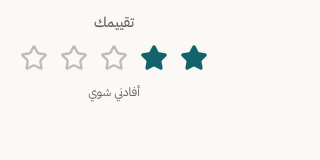
Test: hovering › previews over a rating already given
Hover over the button named "قيّم 5 من ٥" at (34, 58), box [16,40,52,76]
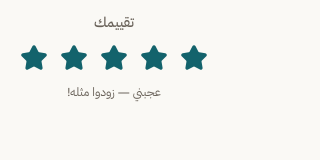
Result: the text "عجبني — زودوا مثله!" is shown at [67,84,161,100]
